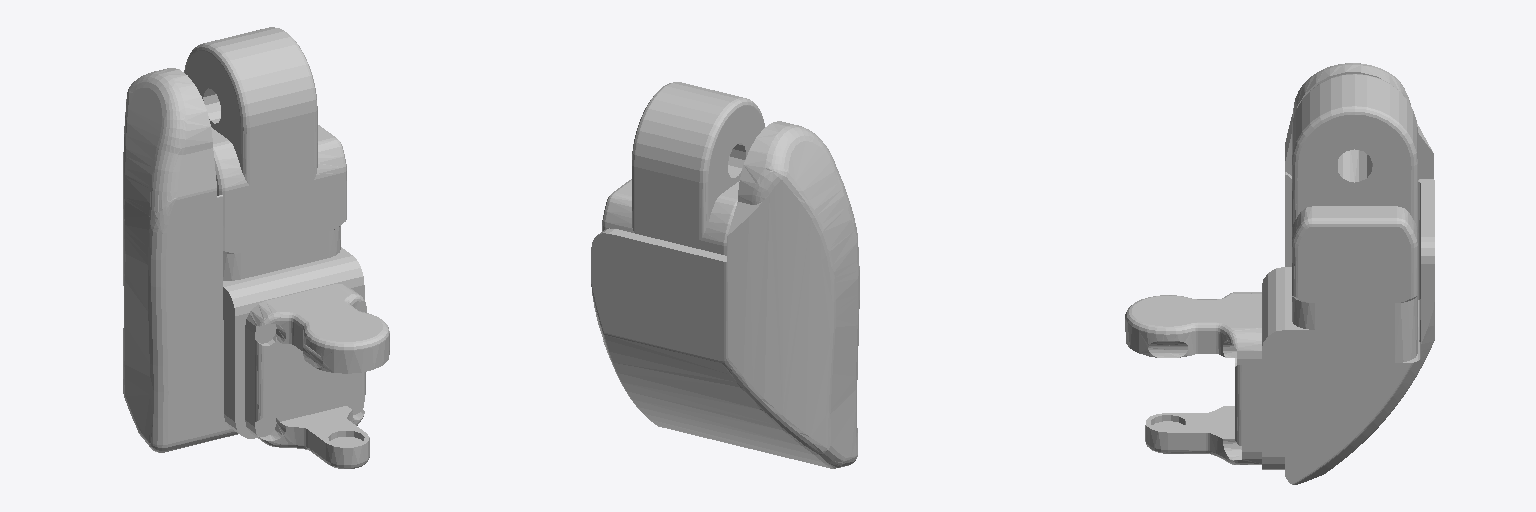
File: tesollo_left_ll_dg_5_1_visuals_ll_dg_5_1_mesh.obj
The picture shows the model from 3 angles: view 1: azimuth 30°, elevation 25°; view 2: azimuth 150°, elevation 25°; view 3: azimuth 270°, elevation 25°; orthographic projection.
Bounding box in the file's own units: 0.0344 × 0.0601 × 0.0465.